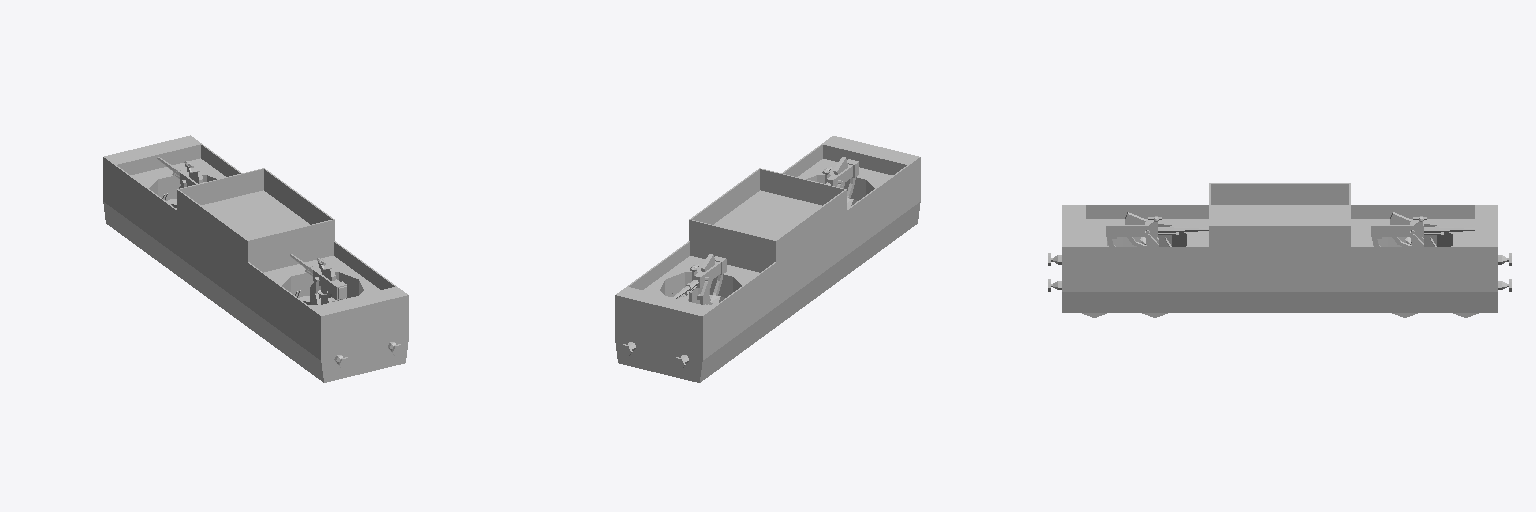
Rendered from minin-aa-wagon.obj.
3 views of the same model, side by side, from view 1: azimuth 30°, elevation 25°; view 2: azimuth 150°, elevation 25°; view 3: azimuth 270°, elevation 25° (orthographic).
Size of the model in its own units: 7.5 by 8.43 by 34.4.